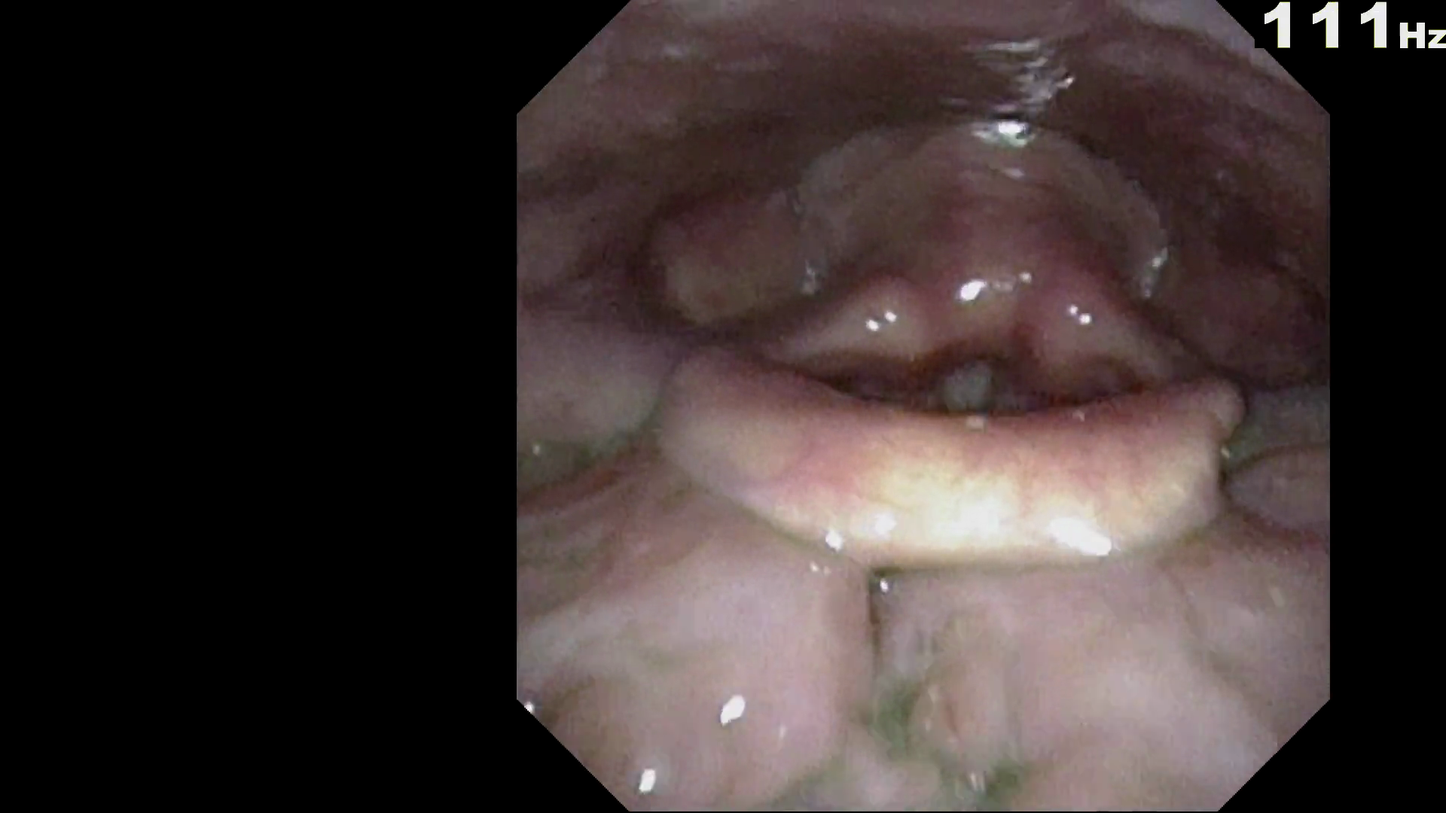epiglottis: (658, 369, 1221, 548)
trachea: (936, 335, 1015, 435)
